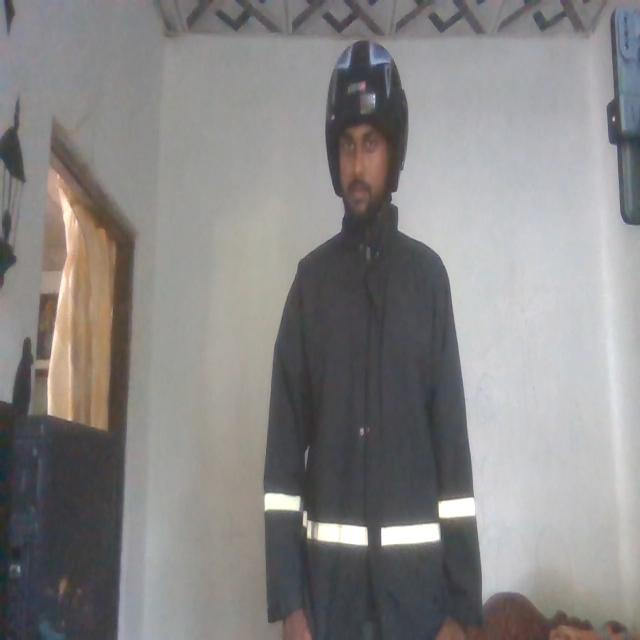Helmet_Wearer: (315, 39, 410, 240)
Jacket_Wearer: (263, 234, 476, 640)
Person: (254, 26, 478, 640)
